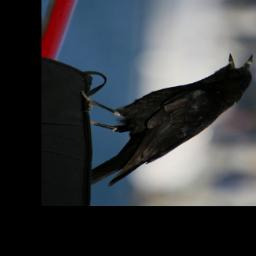Crow: (75, 51, 256, 187)
